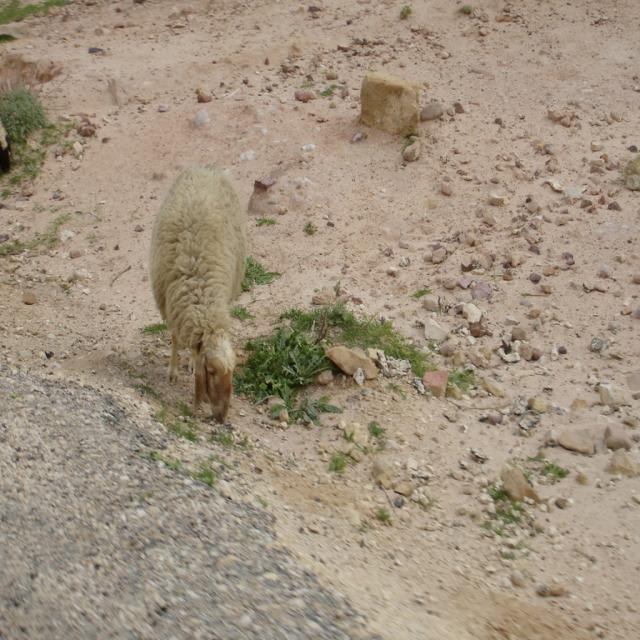Sheep: (146, 162, 246, 423)
